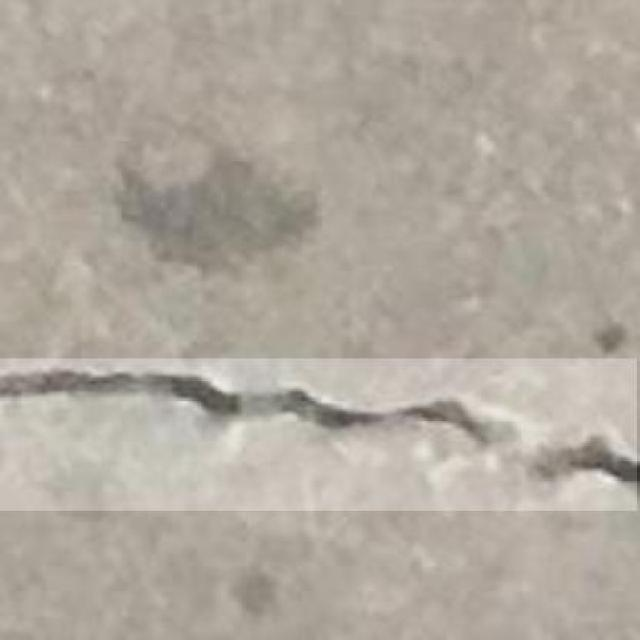Crack: (1, 356, 640, 496)
